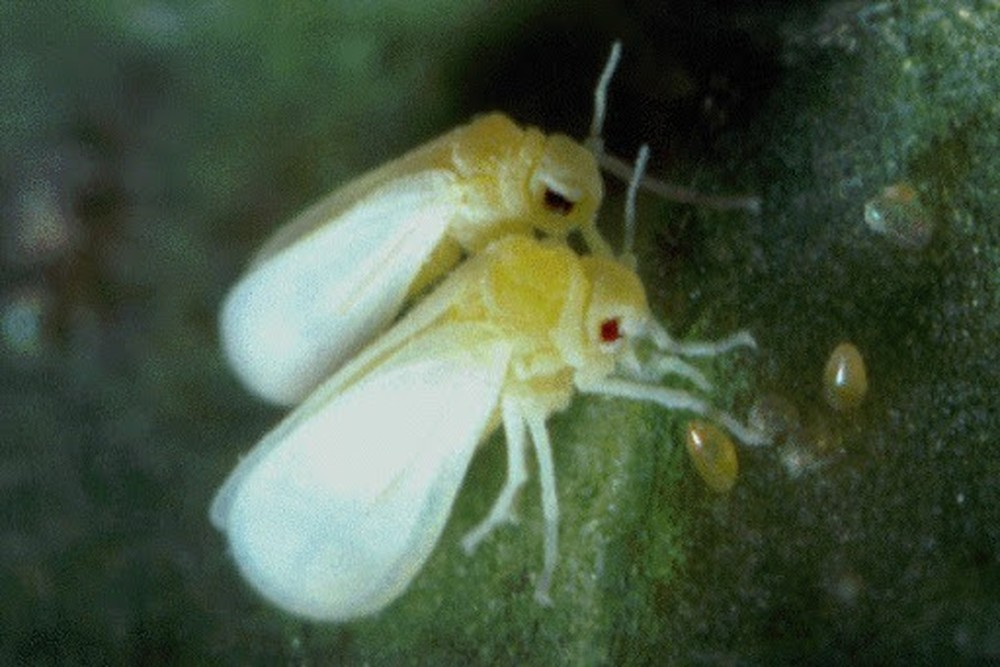Mosca Blanca: (205, 245, 790, 629), (191, 55, 684, 393)
